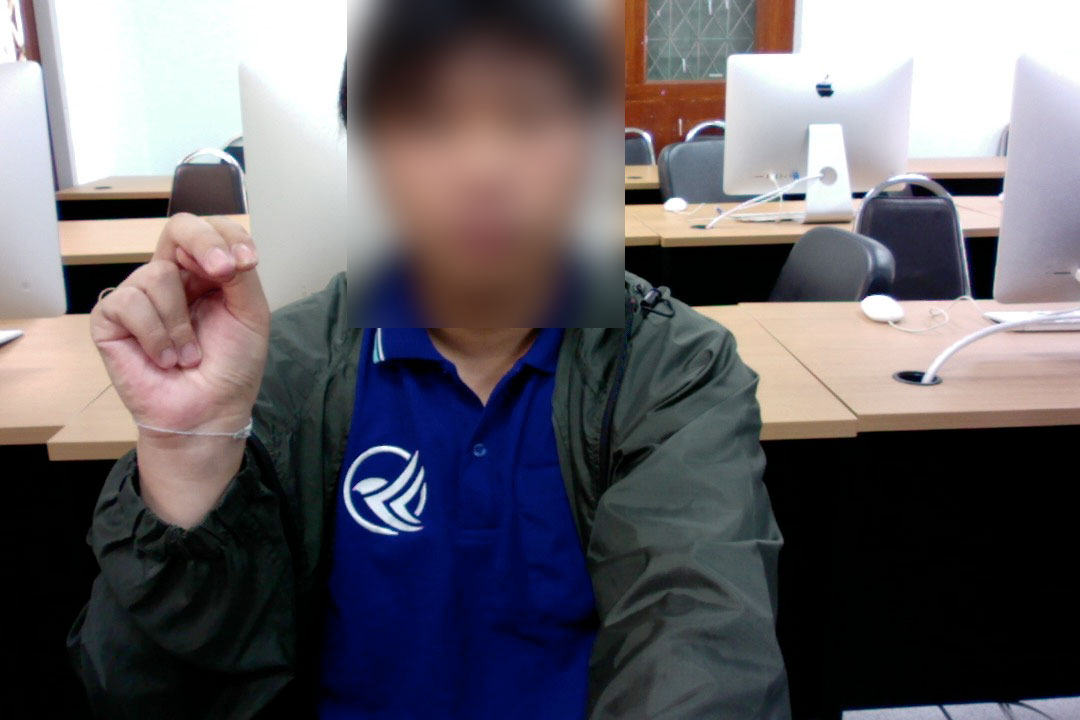nor: (83, 194, 273, 497)
